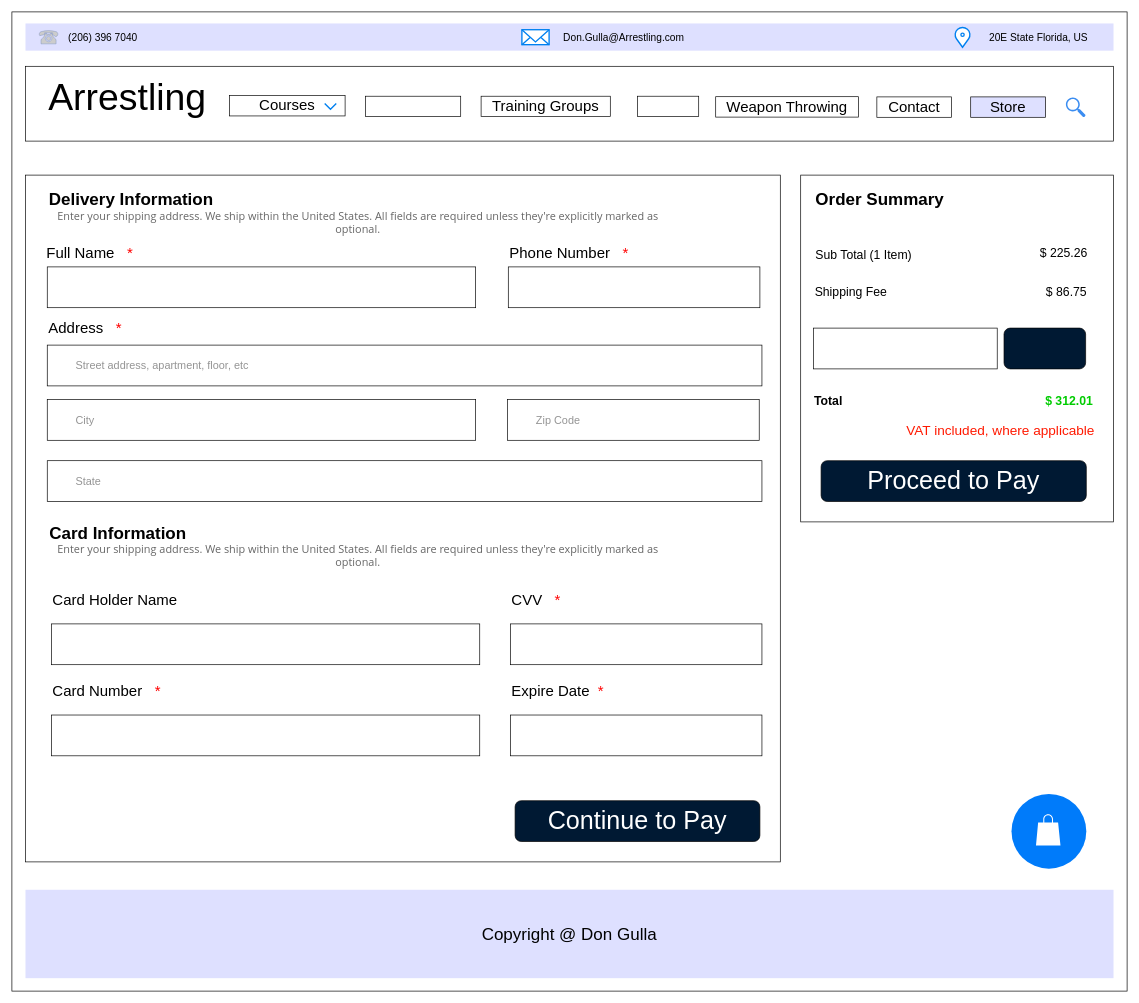
Some shapes in this 1139 by 1003 pixel diagram are drawn without their labels. The centre of each missing label's shape, as x and y in pixels:
"About" goes at [668,106].
"Apply" goes at [1044,348].
"Enter Coupon Code" goes at [905,348].
"Schedule" goes at [413,106].
